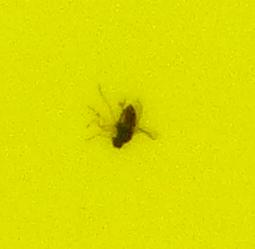Brachycera: (100, 100, 155, 149)
